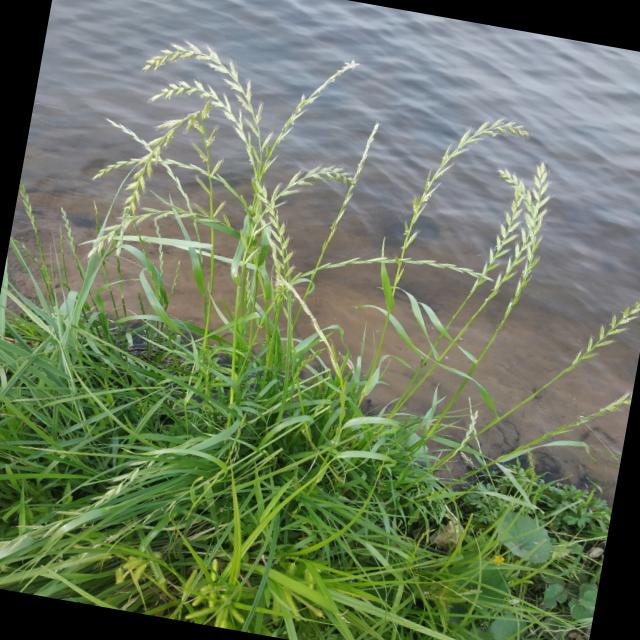Lolium: (402, 101, 530, 267), (134, 33, 278, 140), (294, 236, 494, 312), (50, 430, 166, 547), (86, 194, 222, 280), (476, 155, 554, 294), (316, 116, 387, 268), (88, 116, 193, 210), (92, 147, 251, 205), (270, 54, 353, 164), (263, 155, 366, 228), (576, 291, 640, 368), (260, 222, 300, 296), (452, 405, 481, 457)
